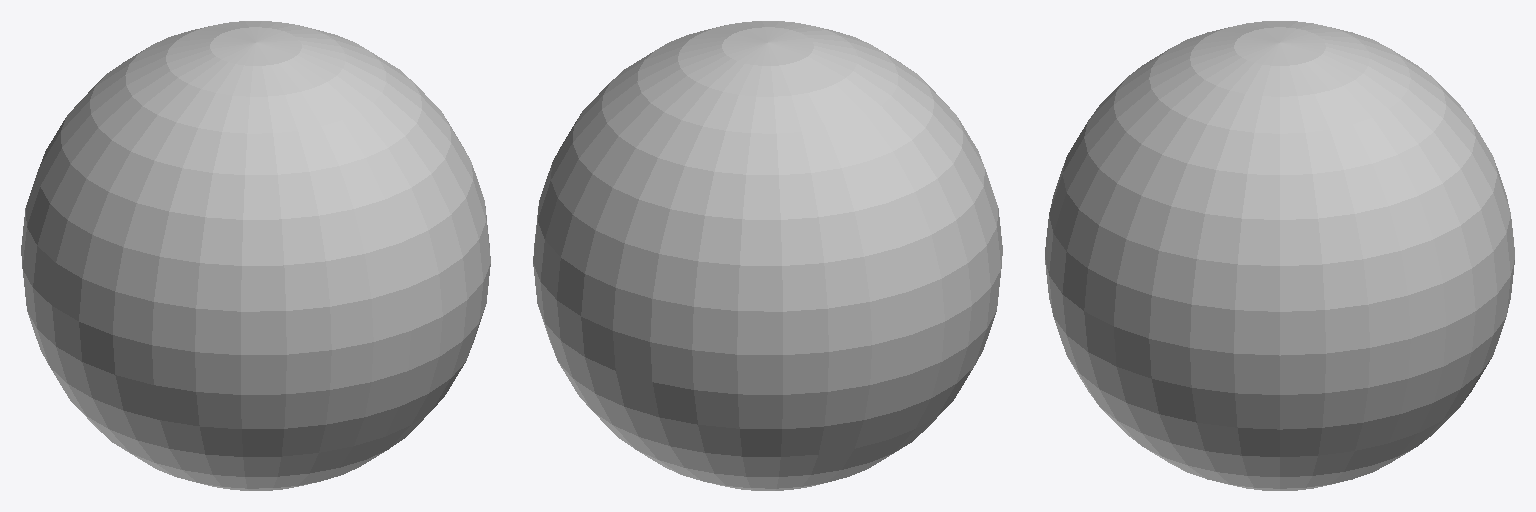
The model's file is enemySphere.obj.
3 renders of one model, left to right at view 1: azimuth 30°, elevation 25°; view 2: azimuth 150°, elevation 25°; view 3: azimuth 270°, elevation 25°, orthographic.
Visible parts, largest first — view 1: Sphere; view 2: Sphere; view 3: Sphere.
Part boxes in pixels (x1,y1,x2,y2): Sphere: (21, 21, 490, 490); Sphere: (533, 21, 1002, 490); Sphere: (1045, 21, 1514, 490).
Size of the model in its own units: 1 by 1 by 1.